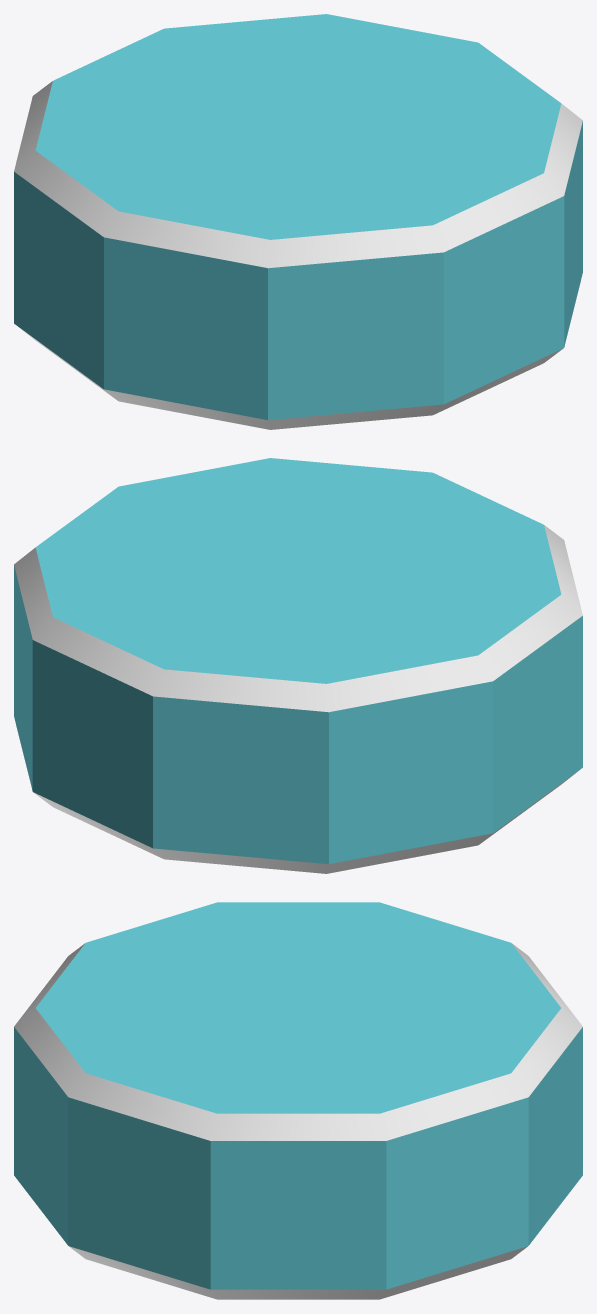
File: Tile10.fbx
3 views of the same model, one above another, from view 1: azimuth 30°, elevation 25°; view 2: azimuth 150°, elevation 25°; view 3: azimuth 270°, elevation 25° (orthographic). The views are drawn at different scales.
Parts seen in each view (by area): view 1: m10; view 2: m10; view 3: m10.
Part boxes in pixels (<box>): m10: <box>14,14,582,429</box>; m10: <box>14,458,582,873</box>; m10: <box>14,902,582,1299</box>.
Size of the model in its own units: 8.77 by 3.32 by 9.22.
